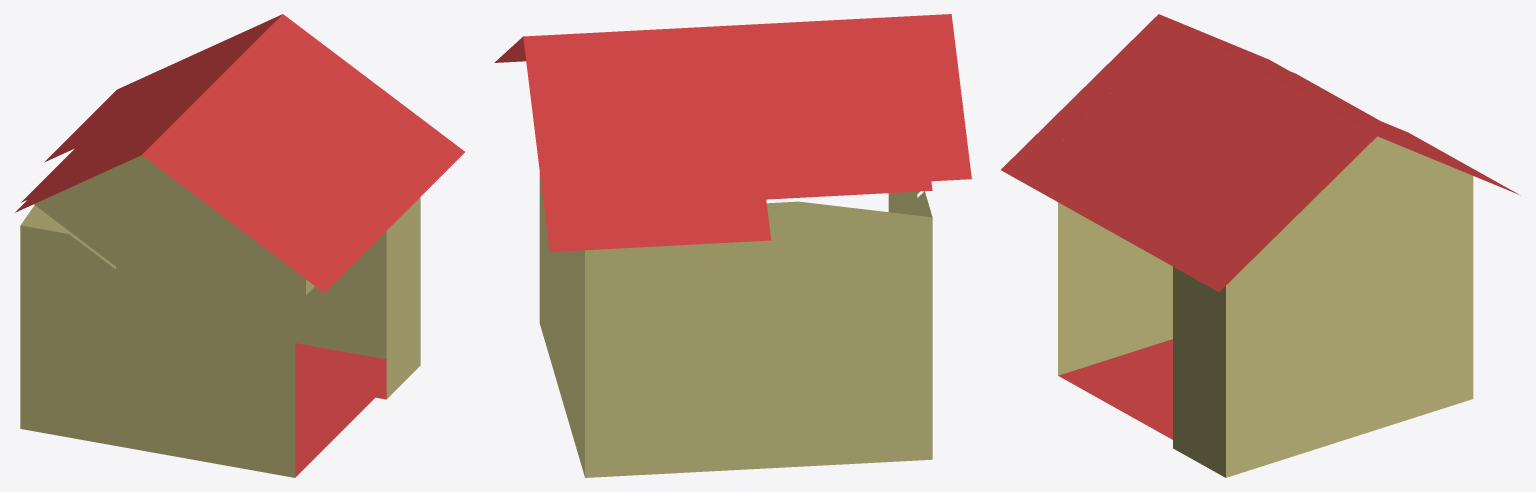
The picture shows the model from 3 angles, left to right: view 1: azimuth 30°, elevation 25°; view 2: azimuth 150°, elevation 25°; view 3: azimuth 270°, elevation 25°; orthographic projection. The views are drawn at different scales.
Size of the model in its own units: 14.35 by 15.18 by 10.01.
